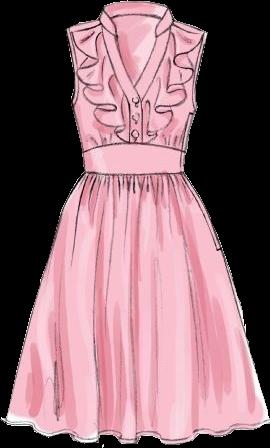Bodice: (65, 1, 207, 176)
Hemline: (1, 417, 269, 446)
Neckline: (103, 6, 170, 90), (79, 139, 185, 155)
Skirt: (1, 172, 269, 444)
Waistline: (81, 166, 183, 178)
